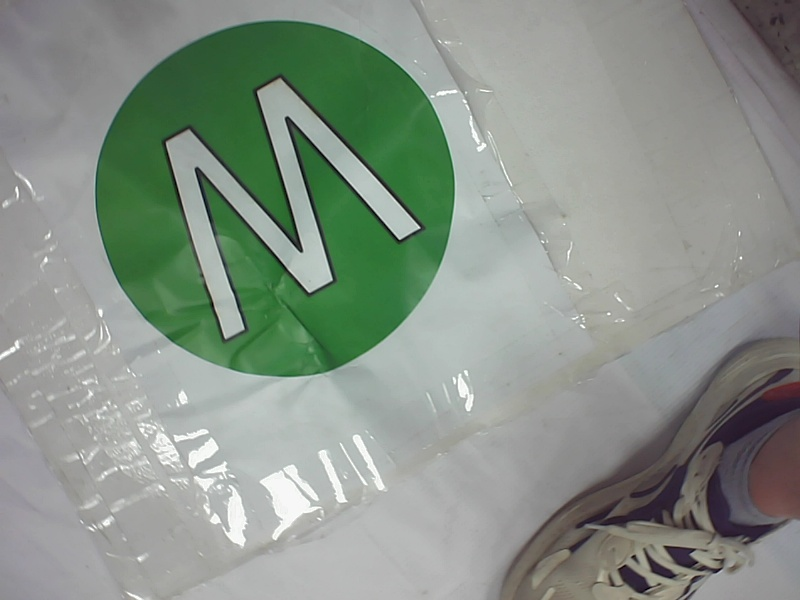areaB: (83, 11, 460, 393)
